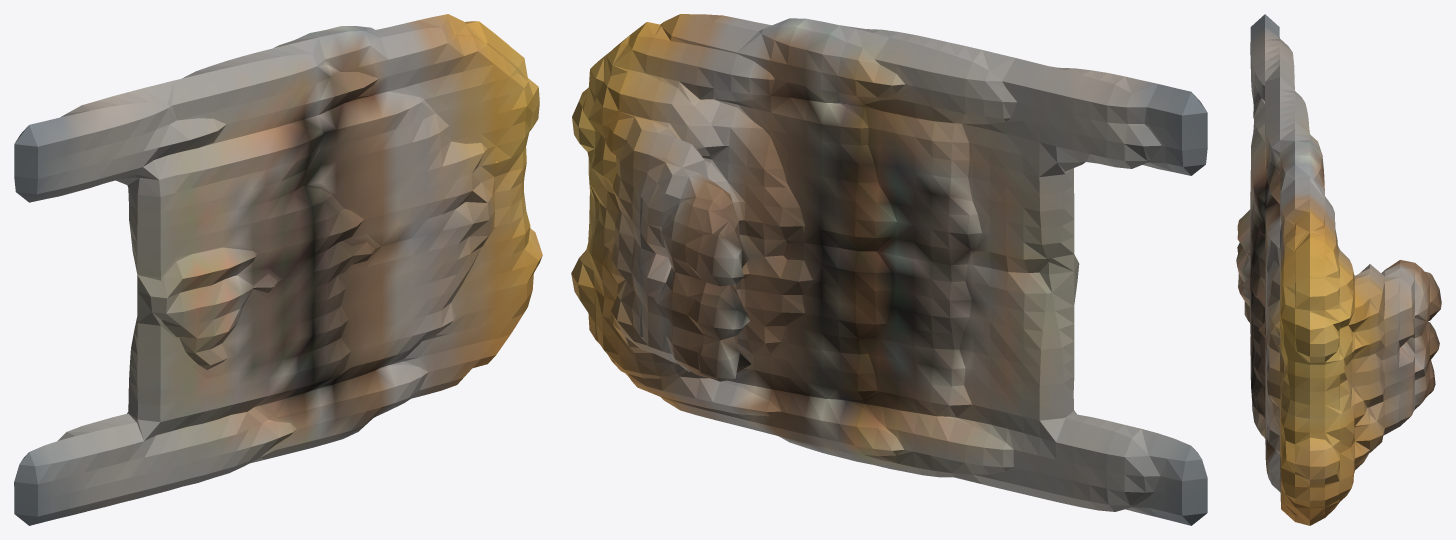
The model's file is producto-002.glb.
3 views of the same model, side by side, from view 1: azimuth 30°, elevation 25°; view 2: azimuth 150°, elevation 25°; view 3: azimuth 270°, elevation 25° (orthographic). The views are drawn at different scales.
Parts seen in each view (by area): view 1: world; view 2: world; view 3: world.
Boxes of the visible parts, x1,y1,x2,y2 form: world: [14, 14, 542, 525]; world: [571, 14, 1207, 525]; world: [1236, 14, 1441, 525].
Size of the model in its own units: 0.9933 by 0.6895 by 0.3783.
